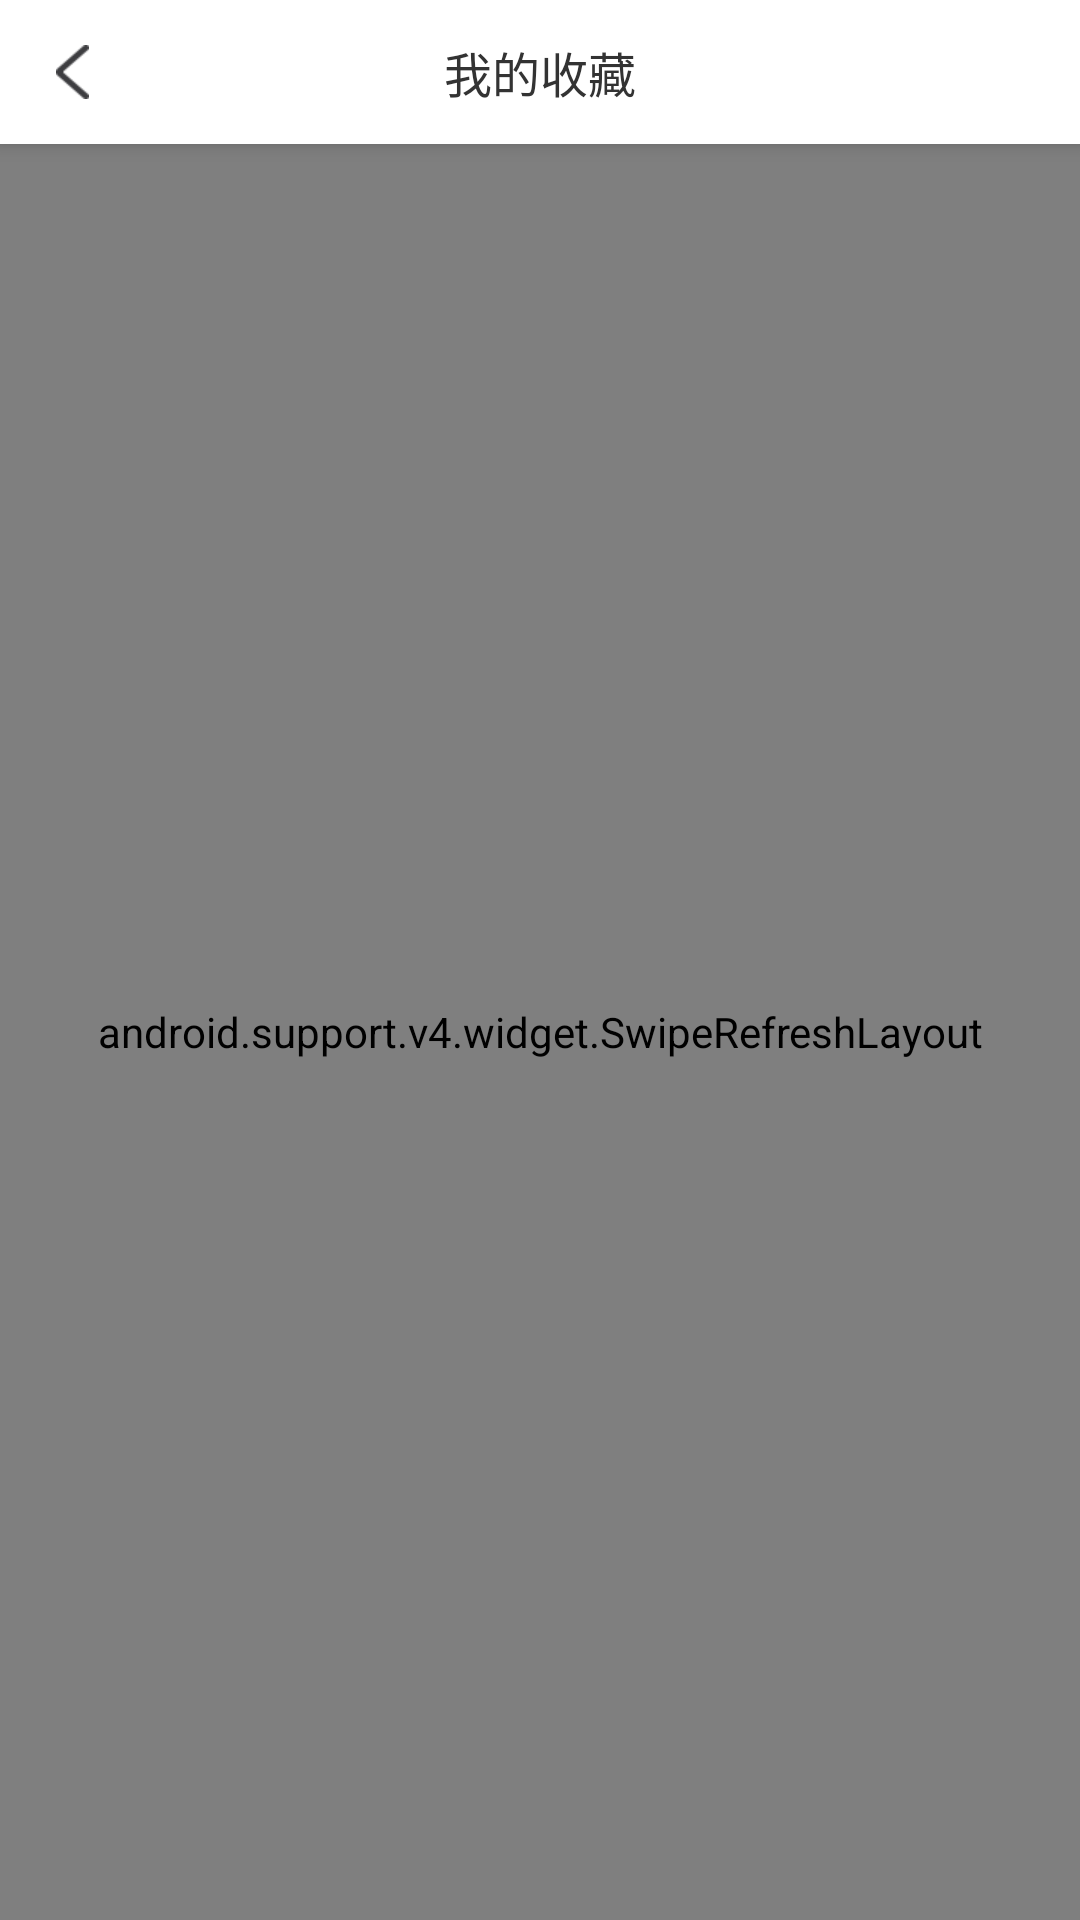

Icon bounding boxes for this 1080*1920 phone screenshot, format (x1, y1, x2, y2):
back def: (56, 45, 89, 99)
